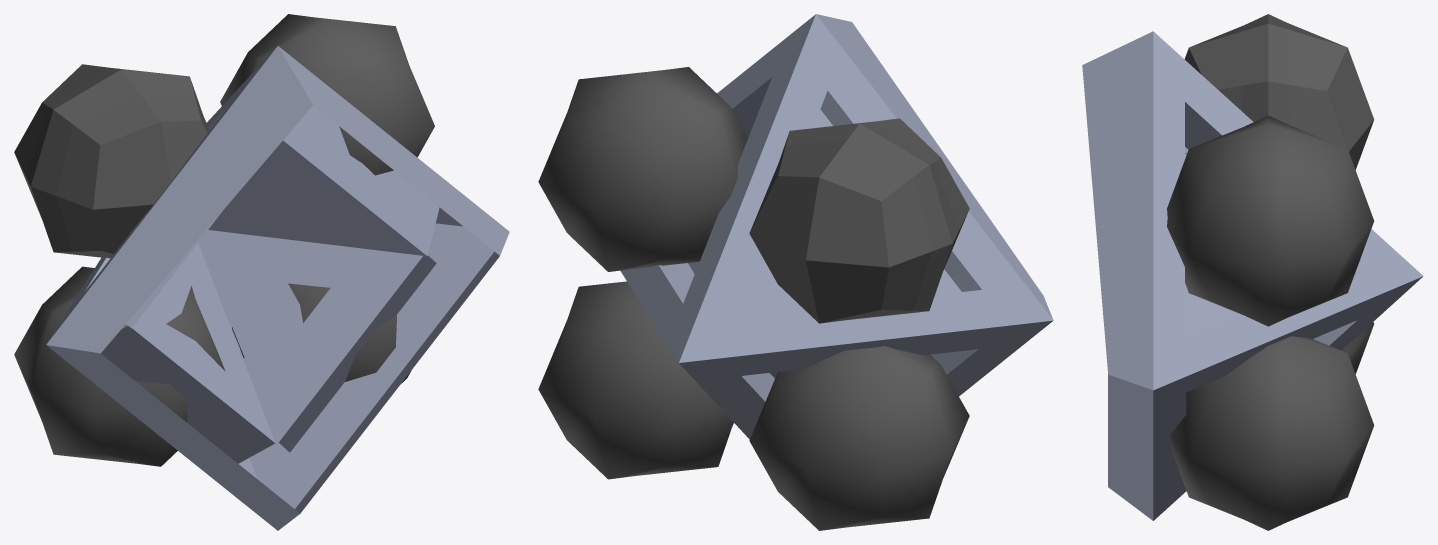
The model's file is BackPack.fbx.
The picture shows the model from 3 angles, left to right: view 1: azimuth 30°, elevation 25°; view 2: azimuth 150°, elevation 25°; view 3: azimuth 270°, elevation 25°; orthographic projection. The views are drawn at different scales.
Visible parts, largest first — view 1: BackPack; view 2: BackPack; view 3: BackPack.
Boxes of the visible parts, x1,y1,x2,y2 form: BackPack: [14, 14, 509, 530]; BackPack: [538, 14, 1053, 530]; BackPack: [1082, 14, 1423, 530].
Size of the model in its own units: 2.34 by 2.34 by 1.48.
